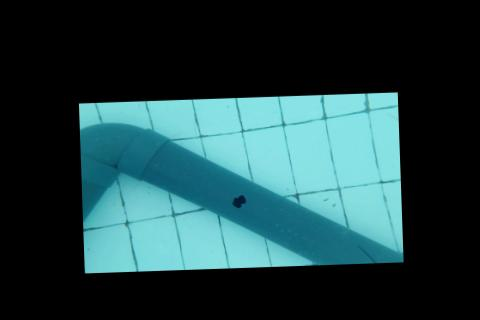kebocoran: (229, 194, 246, 209)
keretakan: (355, 244, 376, 264)
